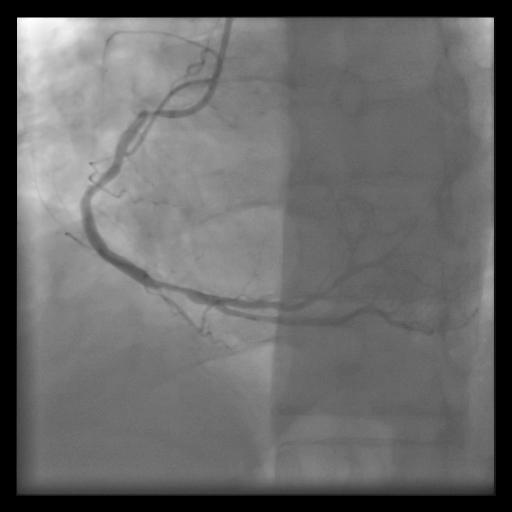Stenosis: (150, 265, 197, 306)
